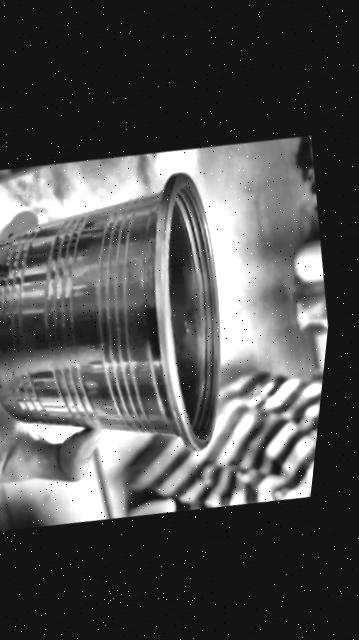pot: (0, 154, 260, 495)
